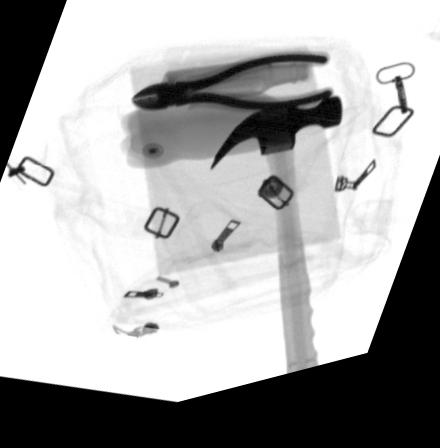Hammer: (210, 114, 343, 389)
Pliers: (128, 65, 335, 127)
